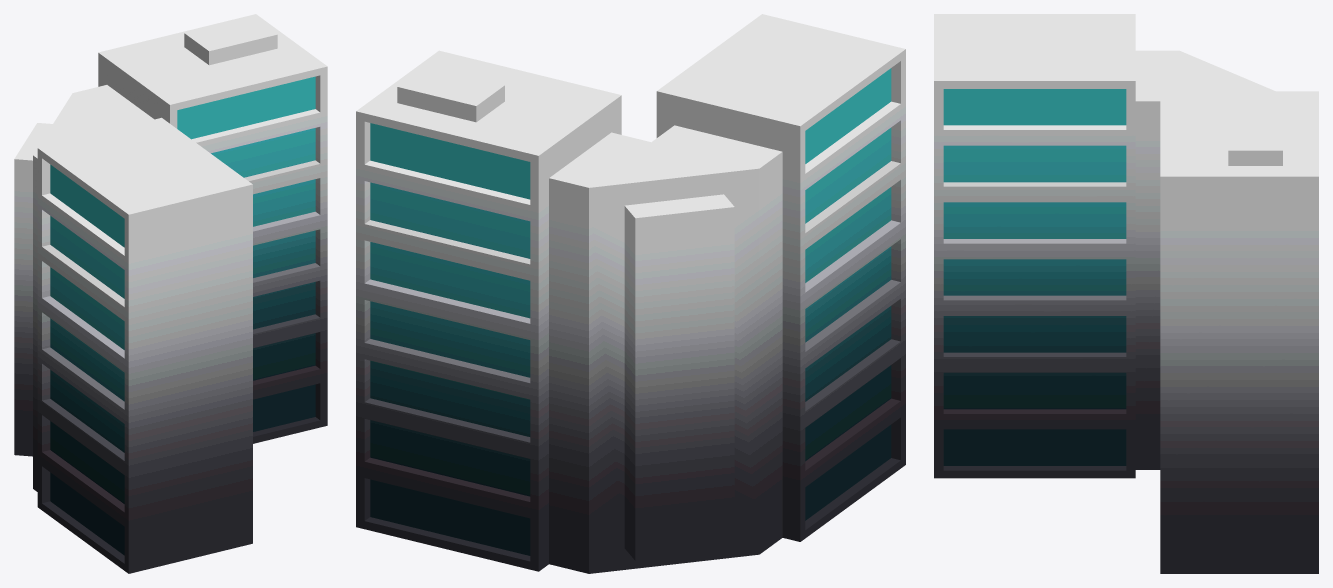
Rendered from SM_Building_L_2.fbx.
3 views of the same model, side by side, from view 1: azimuth 30°, elevation 25°; view 2: azimuth 150°, elevation 25°; view 3: azimuth 270°, elevation 25° (orthographic). The views are drawn at different scales.
Parts seen in each view (by area): view 1: Building_L_2; view 2: Building_L_2; view 3: Building_L_2.
Part boxes in pixels (<box>): Building_L_2: <box>14,14,327,573</box>; Building_L_2: <box>356,14,905,573</box>; Building_L_2: <box>934,14,1318,573</box>.
Size of the model in its own units: 15.13 by 17.92 by 15.13.
